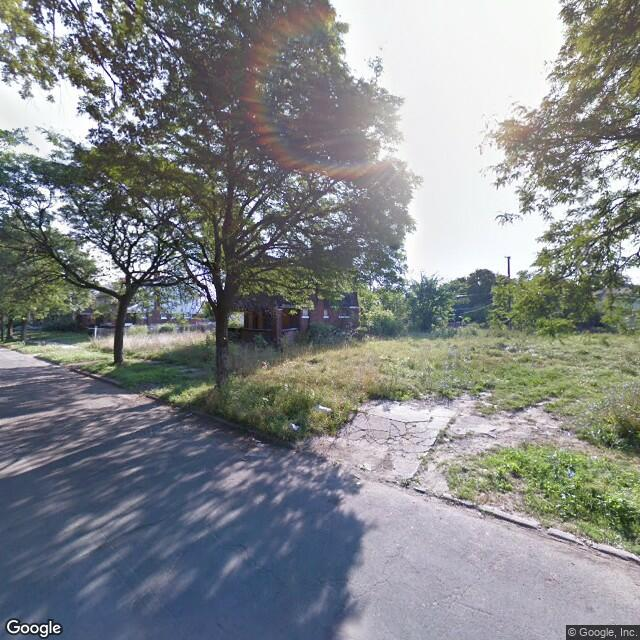litter: (285, 417, 305, 433), (315, 400, 334, 415)
